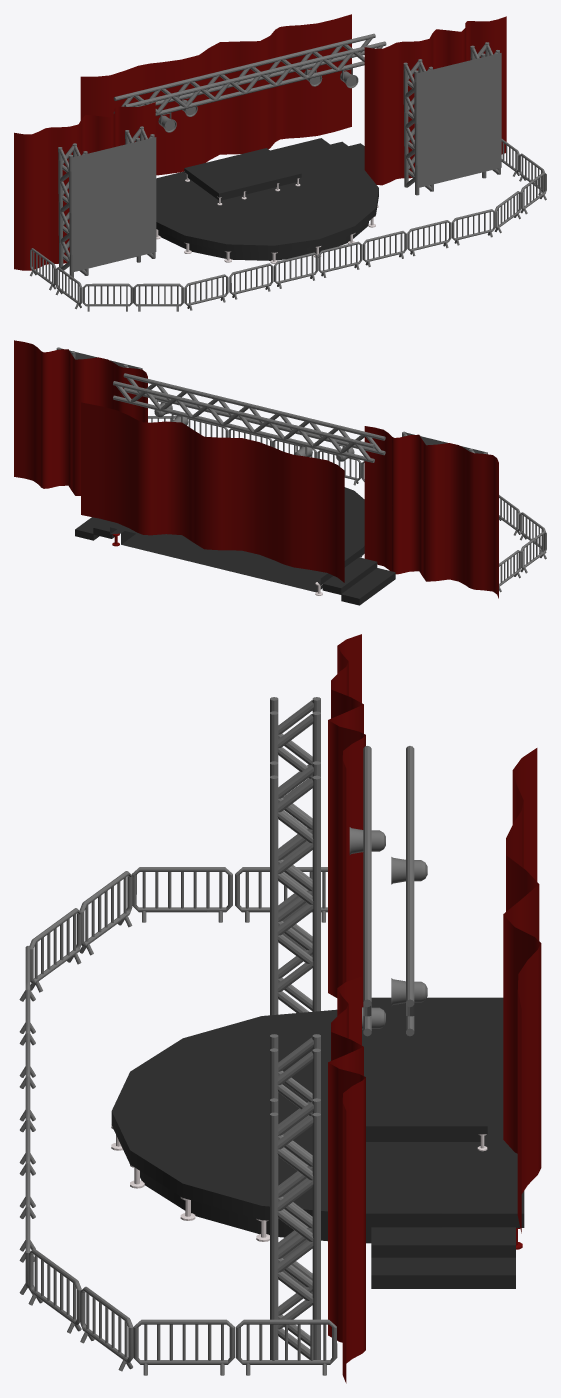
Rendered from Stage.fbx.
The picture shows the model from 3 angles, top to bottom: view 1: azimuth 30°, elevation 25°; view 2: azimuth 150°, elevation 25°; view 3: azimuth 270°, elevation 25°; orthographic projection. The views are drawn at different scales.
Visible parts, largest first — view 1: Curten, Stage, pPlane1, pPlane1.001, Curten1, Curten2, PlatForm, pCylinder35, pCylinder34, pCylinder37, pCylinder36, pCylinder41 (+7 smaller); view 2: Curten, Curten2, Curten1, Stage, pCylinder34, pCylinder35, pCylinder36, pCube3, pCube4, pCylinder37, pCube2; view 3: Stage, Curten, Curten1, PlatForm, Curten2, pCube2, pCube1, pCylinder35, pCylinder34, pCylinder42.001, pCylinder43.003, pCylinder42.003 (+8 smaller).
Boxes of the visible parts, bbox=[...] form: Curten: bbox=[80, 14, 351, 175]; Stage: bbox=[156, 138, 378, 260]; pPlane1: bbox=[417, 53, 501, 187]; pPlane1.001: bbox=[72, 137, 156, 272]; Curten1: bbox=[364, 16, 506, 185]; Curten2: bbox=[14, 102, 155, 270]; PlatForm: bbox=[184, 148, 301, 200]; pCylinder35: bbox=[113, 33, 375, 100]; pCylinder34: bbox=[124, 41, 386, 106]; pCylinder37: bbox=[155, 61, 364, 115]; pCylinder36: bbox=[113, 48, 374, 113]; pCylinder41: bbox=[403, 62, 408, 187]; Curten: bbox=[81, 402, 344, 582]; Curten2: bbox=[364, 426, 498, 598]; Curten1: bbox=[14, 340, 147, 495]; Stage: bbox=[110, 487, 364, 592]; pCylinder34: bbox=[123, 373, 385, 440]; pCylinder35: bbox=[113, 381, 374, 448]; pCylinder36: bbox=[113, 395, 374, 462]; pCube3: bbox=[341, 568, 395, 605]; pCube4: bbox=[322, 557, 377, 594]; pCylinder37: bbox=[124, 388, 385, 455]; pCube2: bbox=[75, 517, 103, 540]; Stage: bbox=[111, 1008, 524, 1243]; Curten: bbox=[503, 748, 541, 1233]; Curten1: bbox=[328, 976, 365, 1383]; PlatForm: bbox=[363, 1046, 487, 1141]; Curten2: bbox=[328, 634, 365, 1007]; pCube2: bbox=[371, 1257, 515, 1288]; pCube1: bbox=[371, 1227, 515, 1257]; pCylinder35: bbox=[406, 746, 414, 1007]; pCylinder34: bbox=[363, 746, 371, 1007]; pCylinder42.001: bbox=[312, 1112, 320, 1359]; pCylinder43.003: bbox=[270, 775, 278, 1015]; pCylinder42.003: bbox=[312, 775, 320, 1011].
Size of the model in its own units: 26.51 by 7.23 by 12.25.
